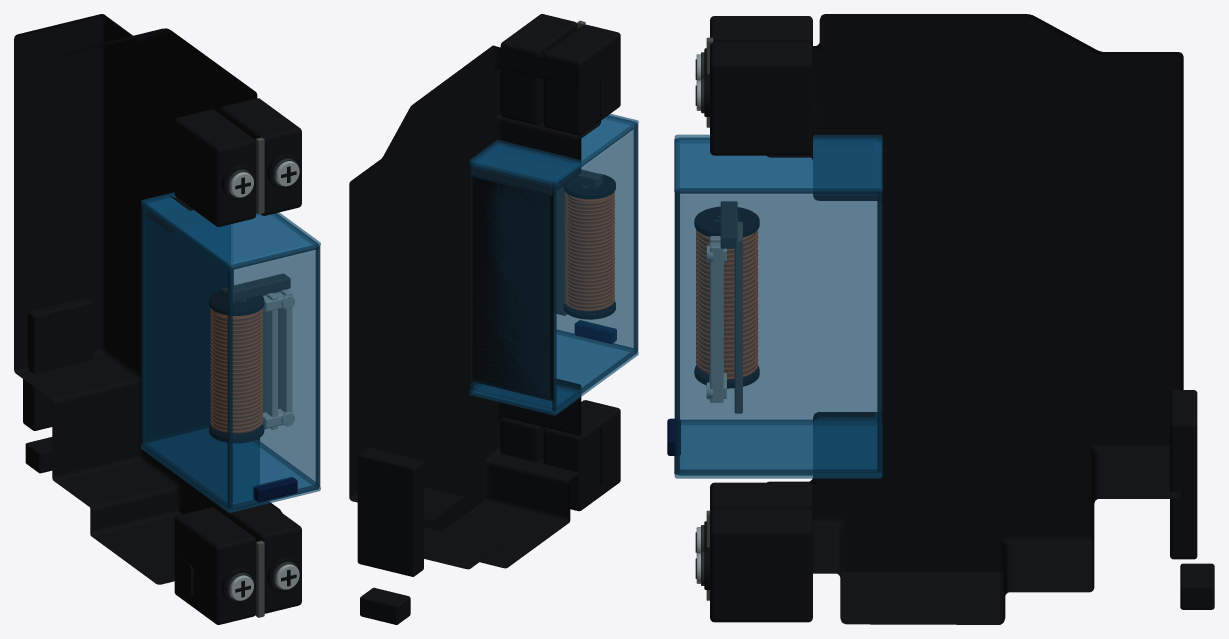
File: rele.obj
The picture shows the model from 3 angles, left to right: view 1: azimuth 30°, elevation 25°; view 2: azimuth 150°, elevation 25°; view 3: azimuth 270°, elevation 25°; orthographic projection. The views are drawn at different scales.
Parts seen in each view (by area): view 1: Колодка_корпус, Прозрачная_крышка, Верхний_терминальный_блок_-4.5, Нижний_терминальный_блок_-4.5, Крышка_рамка_низ, Крышка_рамка_верх, DIN_фиксатор, Медная_обмотка_спираль, Верхний_терминальный_блок_4.5, Нижний_терминальный_блок_4.5, Катушка_основа, Крышка_вертикальная_кромка_-8.65_-41.75 (+15 smaller); view 2: Колодка_корпус, Прозрачная_крышка, DIN_фиксатор, Верхний_терминальный_блок_-4.5, Нижний_терминальный_блок_-4.5, Медная_обмотка_спираль, Крышка_рамка_верх, Крышка_рамка_низ, Верхний_терминальный_блок_4.5, Катушка_основа, Нижний_терминальный_блок_4.5, DIN_отгиб (+10 smaller); view 3: Колодка_корпус, Прозрачная_крышка, Нижний_терминальный_блок_4.5, Верхний_терминальный_блок_4.5, Крышка_рамка_низ, Крышка_рамка_верх, DIN_фиксатор, Медная_обмотка_спираль, Нижний_терминальный_блок_-4.5, Верхний_терминальный_блок_-4.5, Контактная_планка_5.8, Катушка_основа (+9 smaller).
Part boxes in pixels (x1,y1,x2,y2): Колодка_корпус: (14, 14, 282, 596); Прозрачная_крышка: (143, 196, 317, 505); Верхний_терминальный_блок_-4.5: (174, 109, 256, 226); Нижний_терминальный_блок_-4.5: (174, 507, 256, 624); Крышка_рамка_низ: (141, 428, 320, 512); Крышка_рамка_верх: (141, 192, 320, 268); DIN_фиксатор: (23, 297, 93, 430); Медная_обмотка_спираль: (210, 308, 262, 433); Верхний_терминальный_блок_4.5: (220, 98, 301, 215); Нижний_терминальный_блок_4.5: (220, 502, 301, 613); Катушка_основа: (212, 310, 259, 433); Крышка_вертикальная_кромка_-8.65_-41.75: (227, 267, 232, 508); Колодка_корпус: (349, 45, 602, 569); Прозрачная_крышка: (472, 117, 636, 410); DIN_фиксатор: (357, 447, 423, 576); Верхний_терминальный_блок_-4.5: (543, 24, 620, 135); Нижний_терминальный_блок_-4.5: (543, 400, 620, 511); Медная_обмотка_спираль: (565, 192, 614, 311); Крышка_рамка_верх: (469, 114, 638, 184); Крышка_рамка_низ: (469, 332, 638, 415); Верхний_терминальный_блок_4.5: (500, 14, 577, 124); Катушка_основа: (567, 194, 611, 308); Нижний_терминальный_блок_4.5: (500, 417, 545, 461); DIN_отгиб: (360, 587, 410, 624); Колодка_корпус: (766, 14, 1183, 624); Прозрачная_крышка: (679, 140, 880, 471); Нижний_терминальный_блок_4.5: (710, 508, 812, 622); Верхний_терминальный_блок_4.5: (710, 42, 812, 155); Крышка_рамка_низ: (674, 423, 882, 478); Крышка_рамка_верх: (674, 134, 882, 192); DIN_фиксатор: (1170, 390, 1197, 559); Медная_обмотка_спираль: (696, 229, 758, 379); Нижний_терминальный_блок_-4.5: (710, 482, 812, 512); Верхний_терминальный_блок_-4.5: (710, 16, 812, 45); Контактная_планка_5.8: (710, 244, 723, 402); Катушка_основа: (699, 232, 755, 376).
Bounding box in the file's own units: 0.0183 × 0.0901 × 0.0797.
